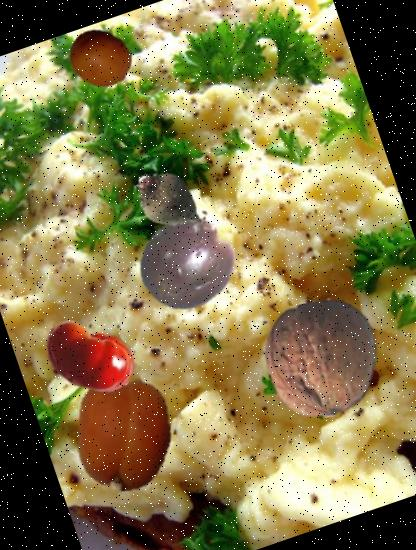Apricot: (54, 363, 198, 507), (61, 17, 141, 97)
Beetroot: (118, 150, 219, 252)
Passion: (126, 200, 252, 326)
Tomato: (29, 296, 150, 417)
Walnut: (249, 284, 398, 433)
